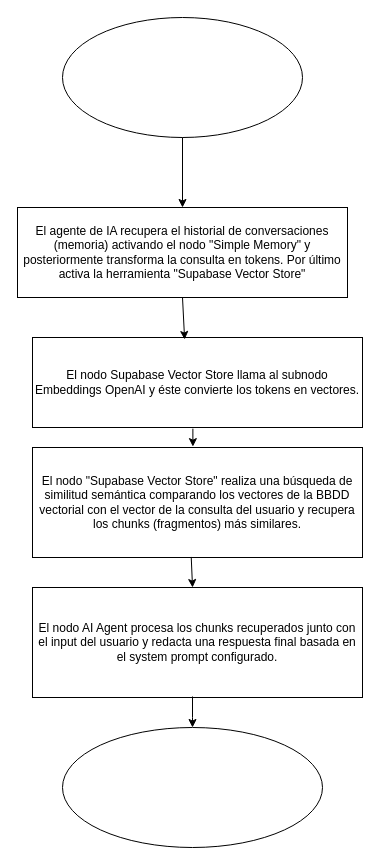
Some shapes in this 380 by 865 pixel diagram are drawn without their labels. Each missing label, with the centre of its shape:
El asistente muestra la respuesta redactada al usuario en el chat: the point at 192,787
Pregunta del usuario en el chat: the point at 182,77
